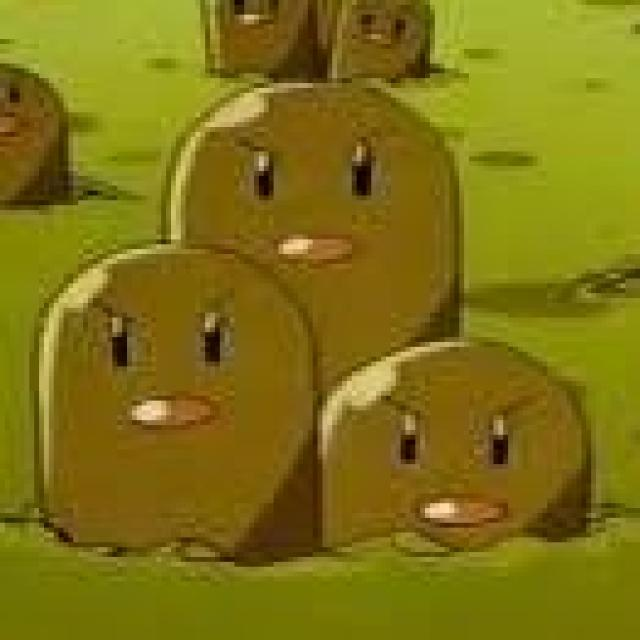Dugtrio: (44, 72, 592, 539)
